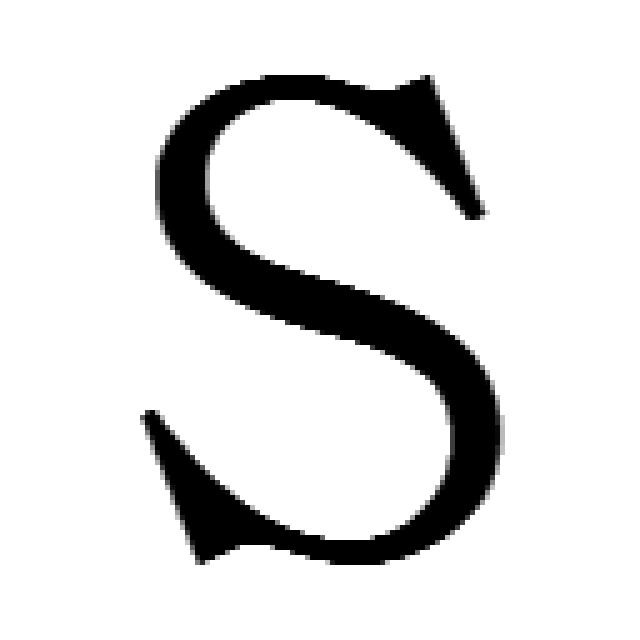S: (122, 89, 519, 575)
